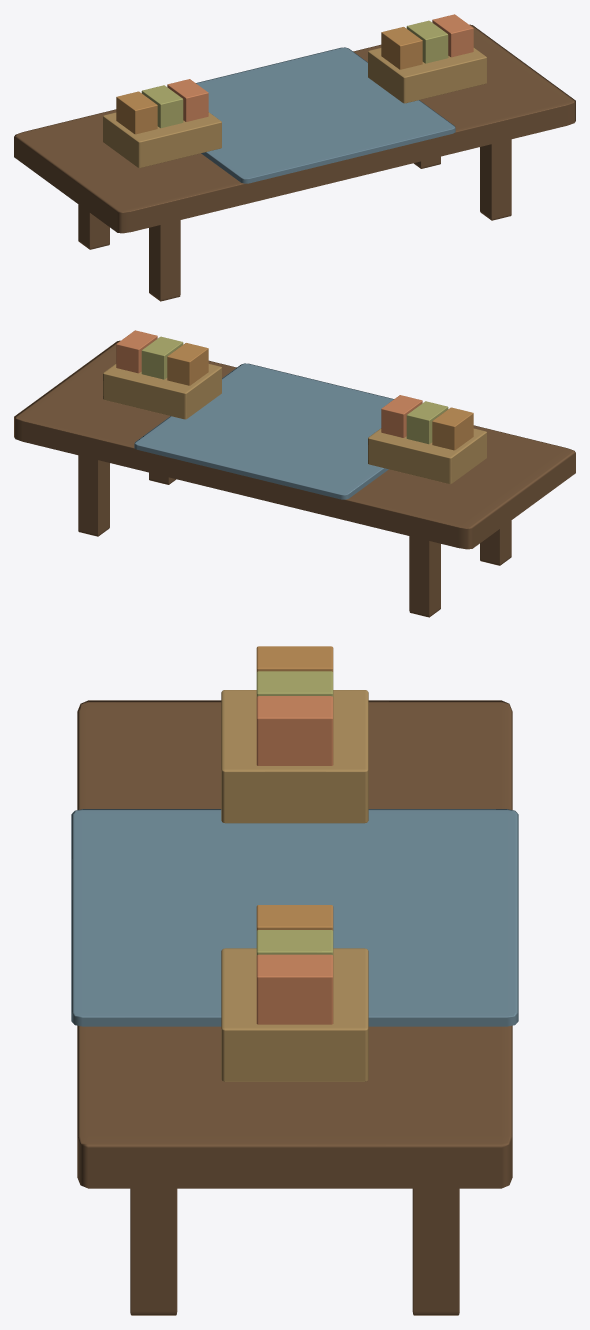
Rendered from harvesttable-2.glb.
The picture shows the model from 3 angles, top to bottom: view 1: azimuth 30°, elevation 25°; view 2: azimuth 150°, elevation 25°; view 3: azimuth 270°, elevation 25°; orthographic projection. The views are drawn at different scales.
Visible parts, largest first — view 1: harvesttable-2-0; view 2: harvesttable-2-0; view 3: harvesttable-2-0.
Part boxes in pixels (x1,y1,x2,y2): harvesttable-2-0: [14, 14, 575, 301]; harvesttable-2-0: [14, 330, 575, 617]; harvesttable-2-0: [71, 646, 518, 1315].
Size of the model in its own units: 1.8 by 0.625 by 0.76.
